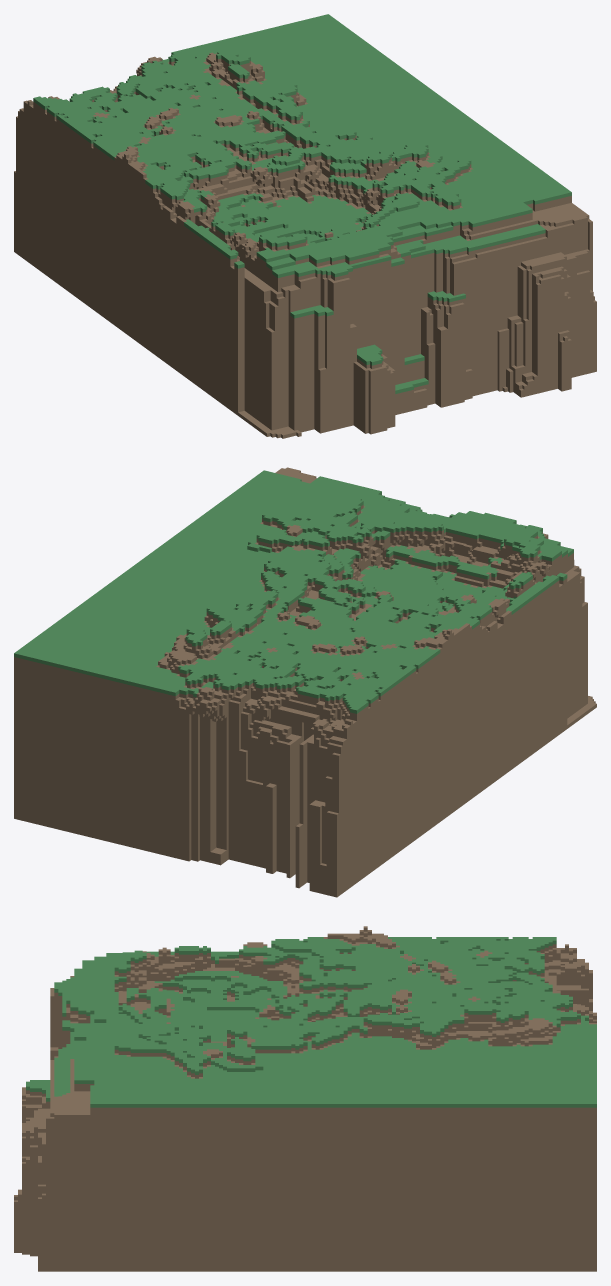
The model's file is Cubeland-24.obj.
The picture shows the model from 3 angles, top to bottom: view 1: azimuth 30°, elevation 25°; view 2: azimuth 150°, elevation 25°; view 3: azimuth 270°, elevation 25°; orthographic projection. The views are drawn at different scales.
Bounding box in the file's own units: 9.4 × 5.2 × 14.5.
1 material, 1 textured.
